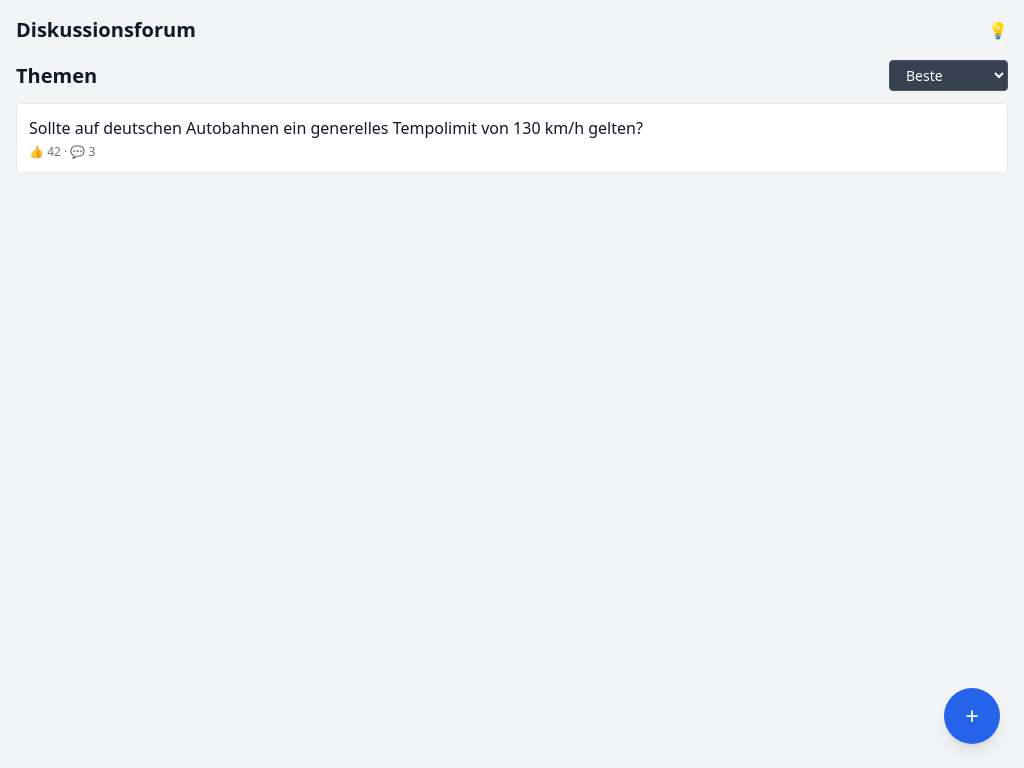
it: ForumThread › embedded without a nodeId › creating a new thema navigates straight into it
expect the heading "Themen" is shown: met, box 16,62 -> 97,90
Click the button named "Neues Thema erstellen": (972, 716) 944,688 -> 1000,744
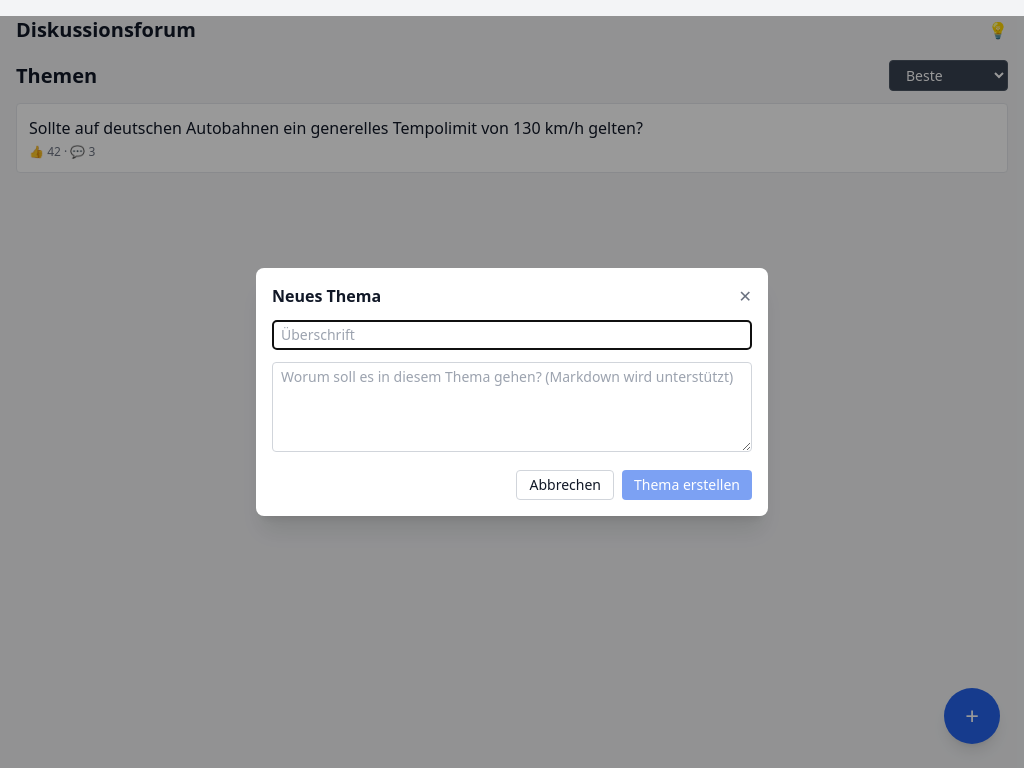
In the field with placeholder "Überschrift": (512, 335) 272,320 -> 752,350, type "Ein brandneues Thema"
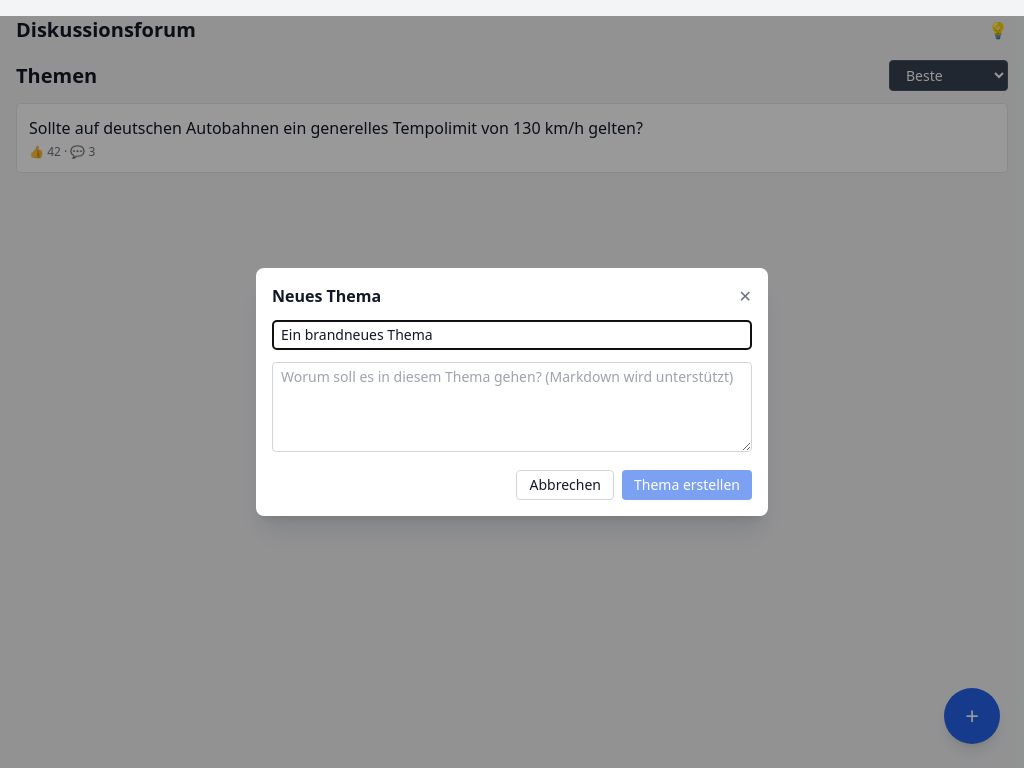
In the text box with placeholder "Worum soll es in diesem Thema gehen? (Markdown wird unterstützt)": (512, 407) 272,362 -> 752,452, type "Der Beschreibungstext"
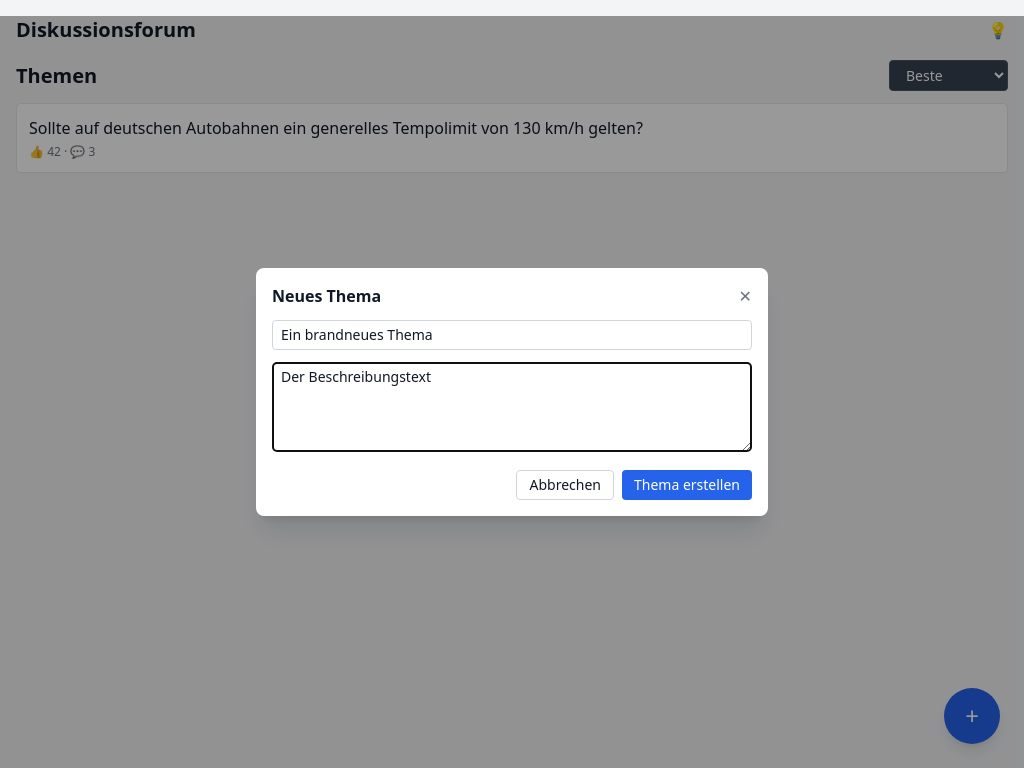
Click the button "Thema erstellen": (687, 485) 622,470 -> 752,500
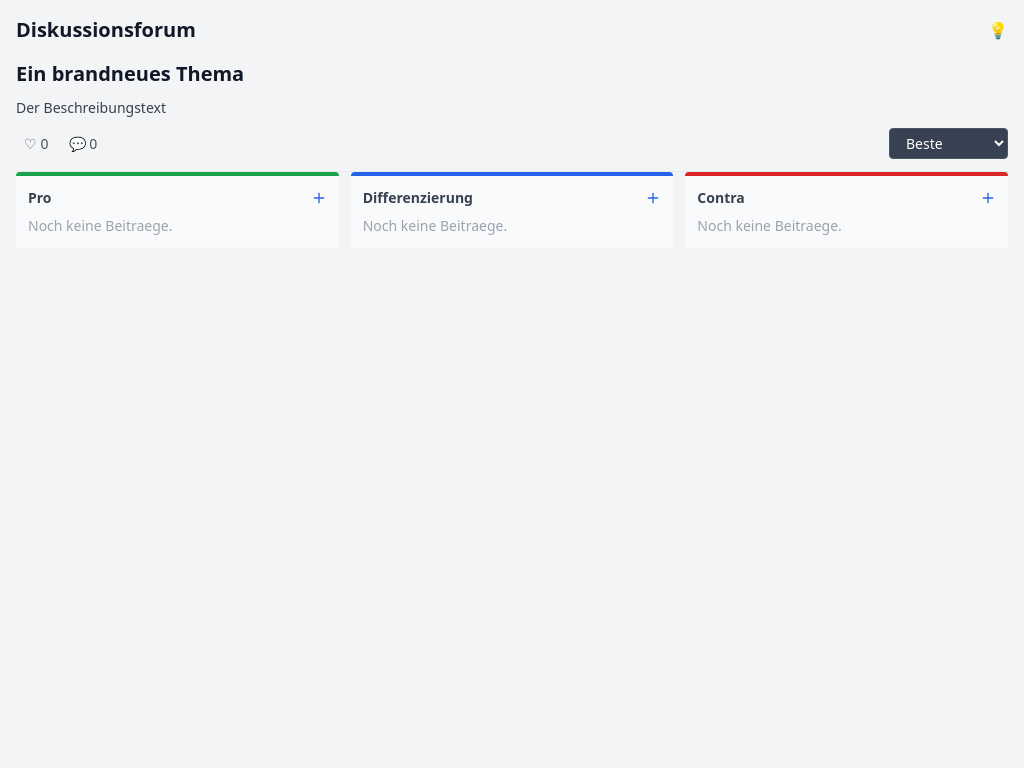
expect the button "Diskussionsforum" is shown: met, box 16,16 -> 196,44
expect the heading "Ein brandneues Thema" is shown: met, box 16,60 -> 244,87
